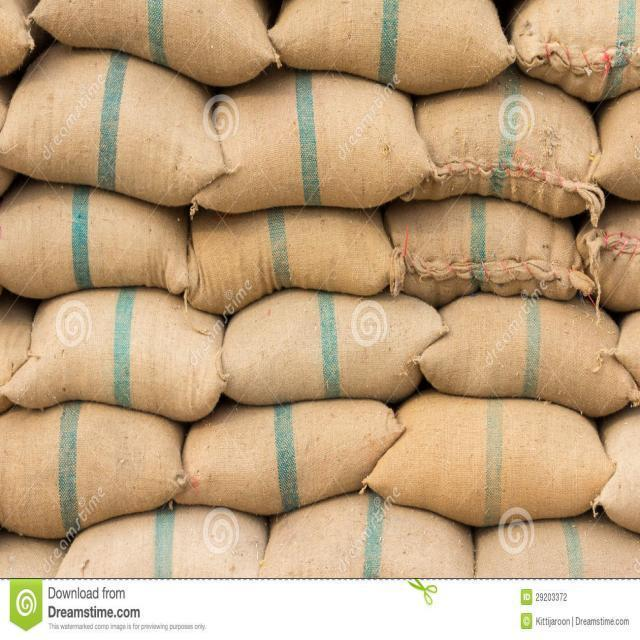gunny_bag: (197, 56, 435, 222), (367, 382, 616, 537), (5, 46, 228, 211), (420, 281, 640, 431), (402, 61, 604, 222), (5, 278, 226, 424), (214, 276, 441, 416), (378, 184, 606, 316), (178, 398, 416, 515), (184, 190, 403, 310), (0, 398, 192, 534), (263, 0, 516, 99), (1, 189, 203, 301), (27, 0, 274, 90), (256, 492, 475, 576), (64, 506, 274, 574), (505, 0, 639, 99)
